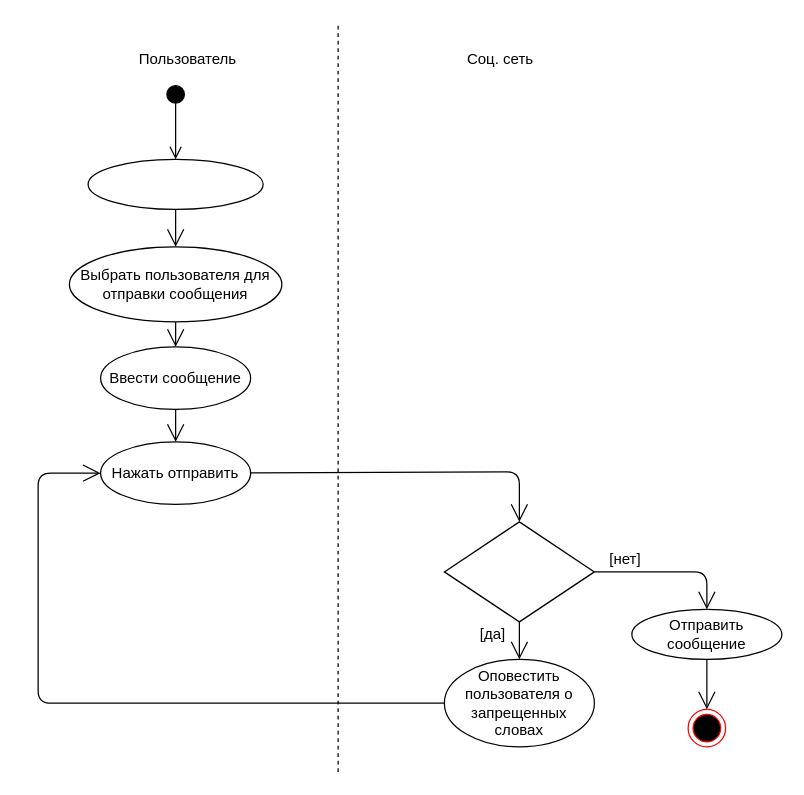
Image size: 804x795. Some labels were removed from this diagram. The centre of each missing label's shape, as x and y in pixels:
Открыть редактор сообщений: (x=175, y=183)
Содержит запрещенные слова?: (x=518, y=571)
